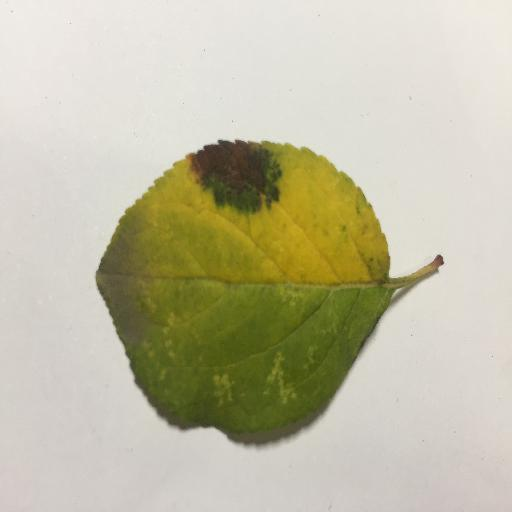Brown_Spot: (182, 147, 273, 211)
